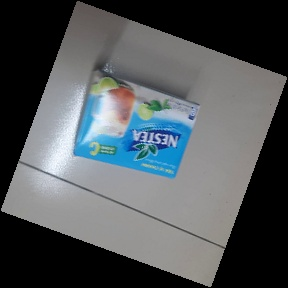Nestea: (68, 67, 201, 181)
